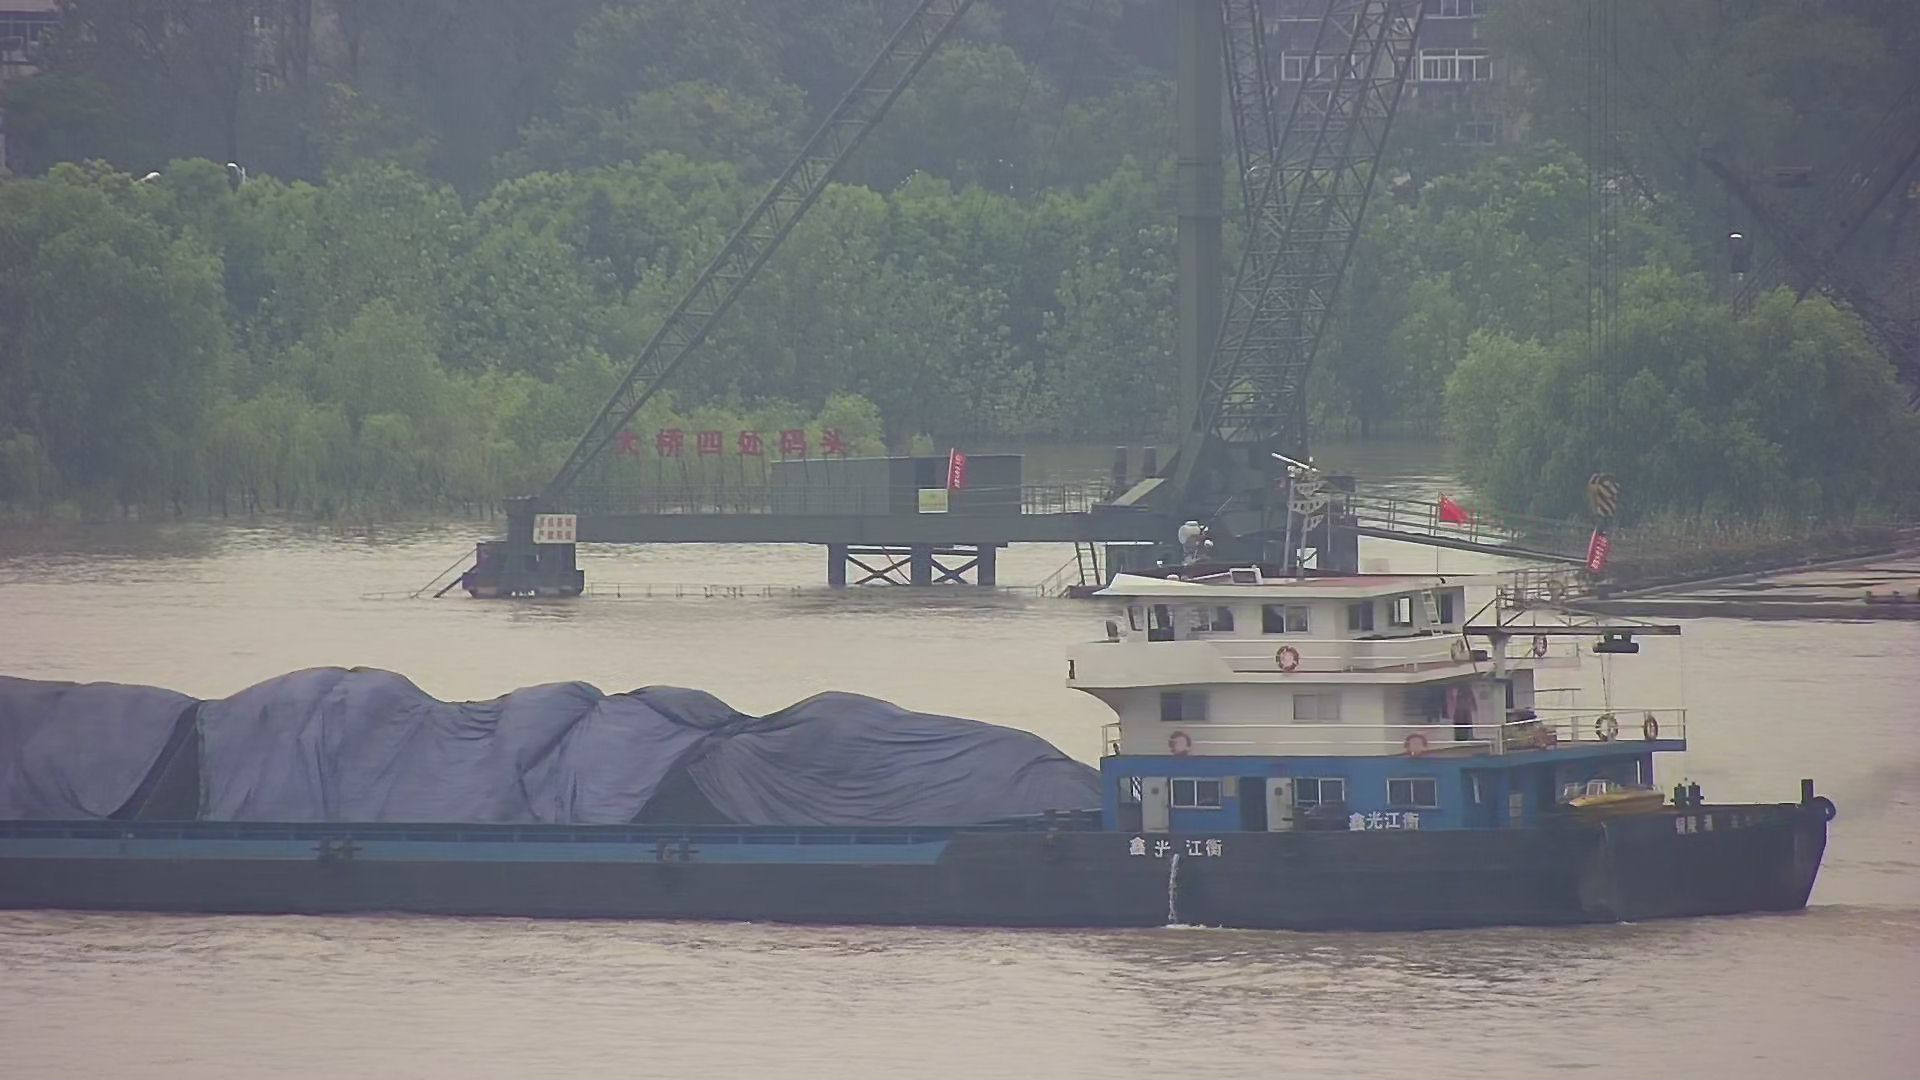platform: (400, 1, 1524, 611)
ship: (1, 435, 1859, 951)
